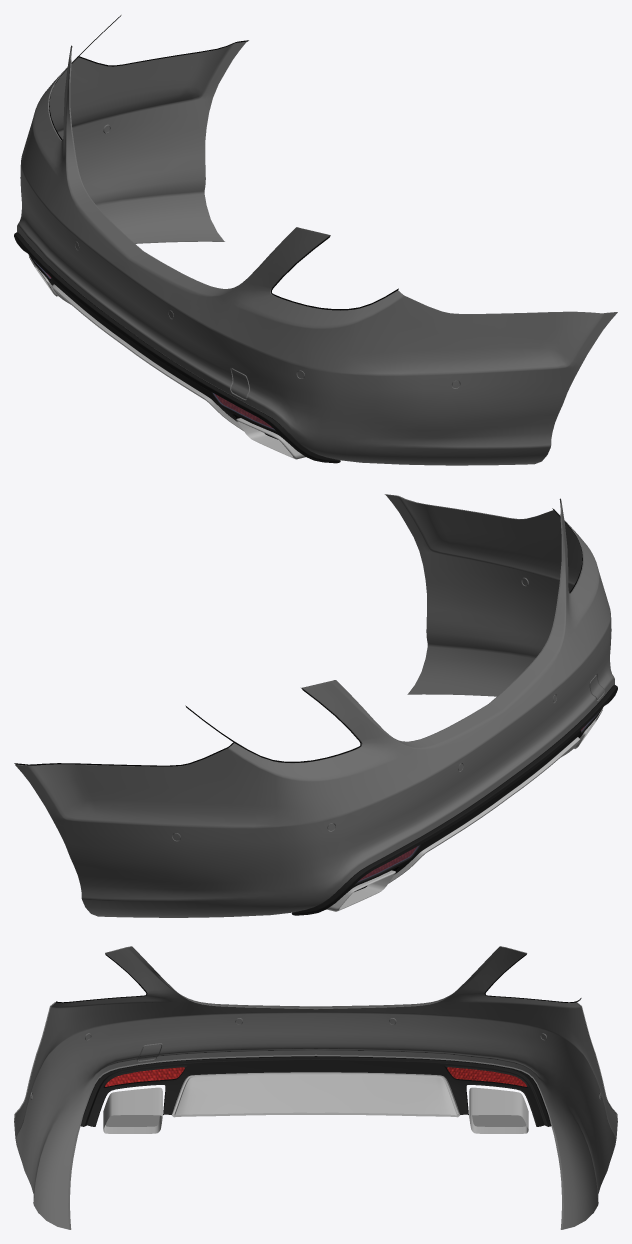
The picture shows the model from 3 angles, top to bottom: view 1: azimuth 30°, elevation 25°; view 2: azimuth 150°, elevation 25°; view 3: azimuth 270°, elevation 25°; orthographic projection. The views are drawn at different scales.
Parts seen in each view (by area): view 1: X3088_561G_C_1_DaS_X3088_561G_C, X3088_561G_C_X3088_561G_C_3_D, X3088_561G_C_1_DaS_X3088_561G_C_E, X3088_561G_C_X3088_561G_C_10_DaS, X3088_561G_C_X3088_561G_C_4_DaS; view 2: X3088_561G_C_1_DaS_X3088_561G_C, X3088_561G_C_X3088_561G_C_3_D, X3088_561G_C_1_DaS_X3088_561G_C_E, X3088_561G_C_X3088_561G_C_10_DaS, X3088_561G_C_X3088_561G_C_4_DaS, X3088_561G_C_X3088_561G_C_2_D; view 3: X3088_561G_C_1_DaS_X3088_561G_C, X3088_561G_C_X3088_561G_C_10_DaS, X3088_561G_C_X3088_561G_C_3_D, X3088_561G_C_X3088_561G_C_4_DaS, X3088_561G_C_1_DaS_X3088_561G_C_E, X3088_561G_C_X3088_561G_C_9_N, X3088_561G_C_X3088_561G_C_8_N.
Boxes of the visible parts, <box> form: X3088_561G_C_1_DaS_X3088_561G_C: <box>17,41,617,465</box>; X3088_561G_C_X3088_561G_C_3_D: <box>14,232,340,463</box>; X3088_561G_C_1_DaS_X3088_561G_C_E: <box>17,43,617,415</box>; X3088_561G_C_X3088_561G_C_10_DaS: <box>51,284,243,431</box>; X3088_561G_C_X3088_561G_C_4_DaS: <box>28,255,305,459</box>; X3088_561G_C_1_DaS_X3088_561G_C: <box>15,494,614,917</box>; X3088_561G_C_X3088_561G_C_3_D: <box>291,685,617,915</box>; X3088_561G_C_1_DaS_X3088_561G_C_E: <box>15,494,614,867</box>; X3088_561G_C_X3088_561G_C_10_DaS: <box>388,737,580,883</box>; X3088_561G_C_X3088_561G_C_4_DaS: <box>326,707,603,911</box>; X3088_561G_C_X3088_561G_C_2_D: <box>14,688,361,766</box>; X3088_561G_C_1_DaS_X3088_561G_C: <box>14,946,617,1229</box>; X3088_561G_C_X3088_561G_C_10_DaS: <box>171,1072,460,1117</box>; X3088_561G_C_X3088_561G_C_3_D: <box>80,1056,551,1126</box>; X3088_561G_C_X3088_561G_C_4_DaS: <box>103,1087,528,1133</box>; X3088_561G_C_1_DaS_X3088_561G_C_E: <box>14,946,617,1229</box>; X3088_561G_C_X3088_561G_C_9_N: <box>447,1067,526,1086</box>; X3088_561G_C_X3088_561G_C_8_N: <box>105,1067,184,1086</box>.
Size of the model in its own units: 101 by 77.55 by 204.
